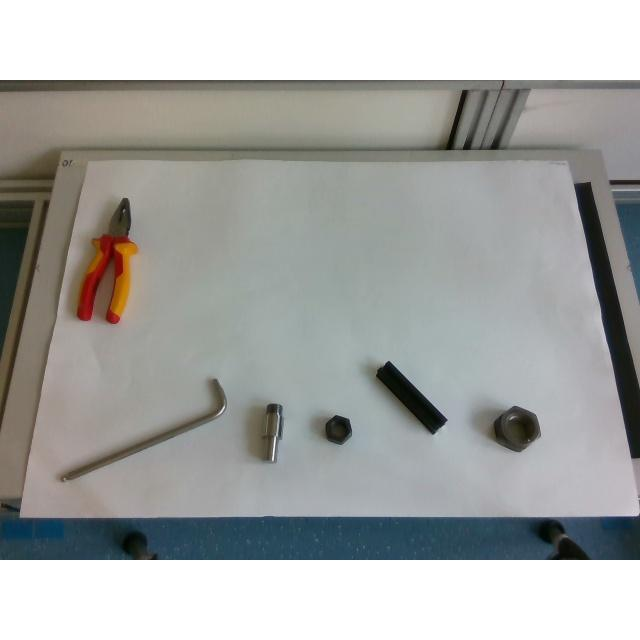AllenKey: (59, 378, 227, 482)
Axis2: (264, 402, 284, 462)
F20_20_B: (376, 362, 446, 434)
M20: (325, 416, 351, 444)
M30: (492, 406, 540, 452)
